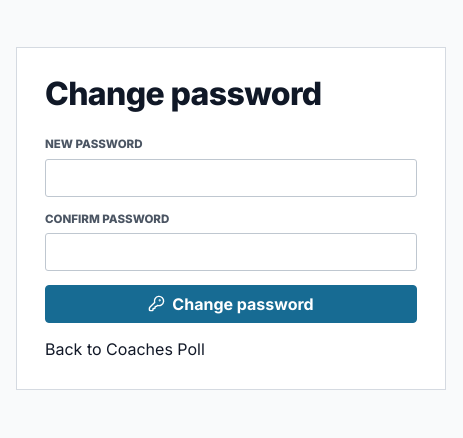
ChangePasswordPage › updates the signed-in account and clears password fields
The width and height of the screenshot is (463, 438).
Type "new-password" into the password field labelled "New password" at (231, 178), box [45,159,417,197]
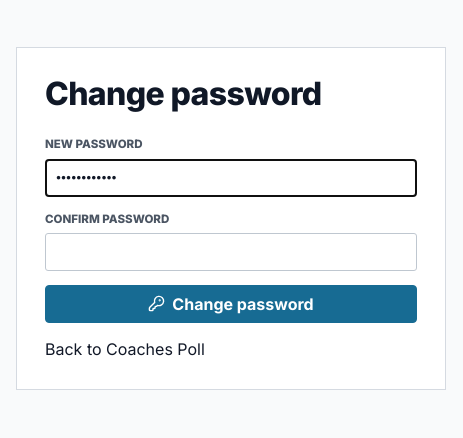
Type "new-password" into the password field labelled "Confirm password" at (231, 252), box [45,233,417,271]
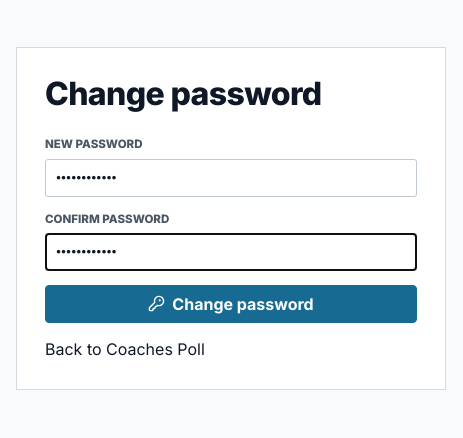
Click the button "Change password" at (231, 304), box [45,285,417,323]
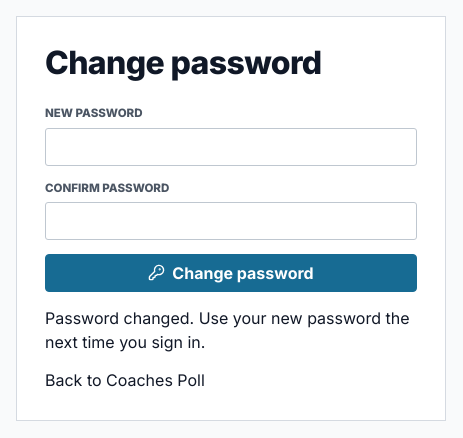
Expected: the message shows "Password changed", [45,308,410,352]
Expected: the password field labelled "New password" is empty, [45,128,417,166]
Expected: the password field labelled "Confirm password" is empty, [45,202,417,240]
